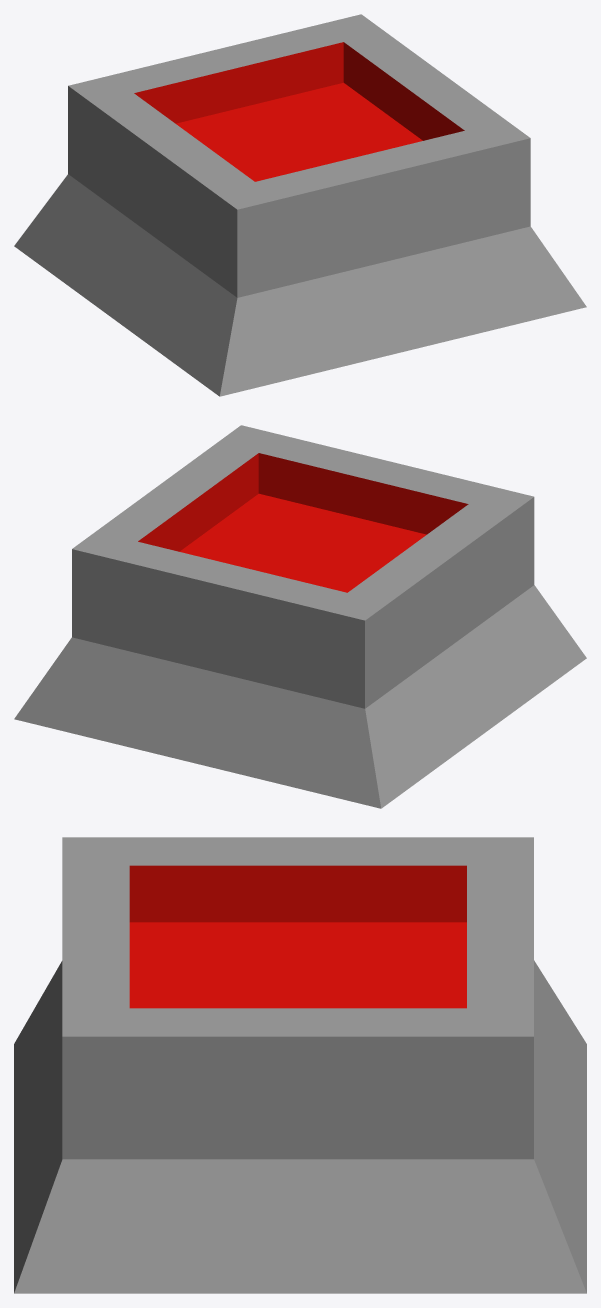
The model's file is Weighing Machine 1.fbx.
3 renders of one model, top to bottom at view 1: azimuth 30°, elevation 25°; view 2: azimuth 150°, elevation 25°; view 3: azimuth 270°, elevation 25°, orthographic. The views are drawn at different scales.
Visible parts, largest first — view 1: Cube; view 2: Cube; view 3: Cube.
Part boxes in pixels (x1,y1,x2,y2): Cube: (14,14,586,396); Cube: (14,425,586,808); Cube: (14,837,586,1293).
Size of the model in its own units: 129 by 55.59 by 125.
